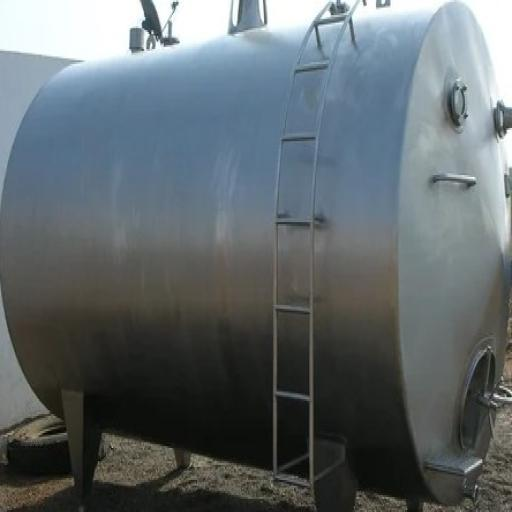silo: (0, 3, 511, 510)
